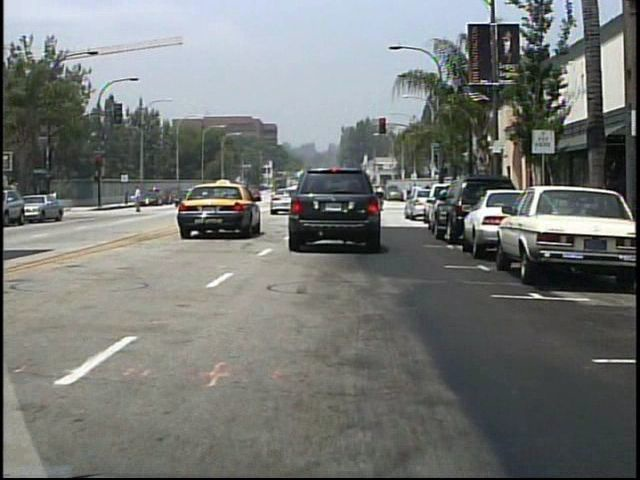person: (374, 183, 391, 215), (131, 187, 148, 214)
